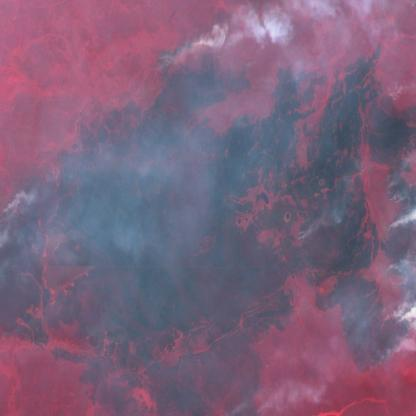fire: (334, 89, 416, 372), (152, 31, 254, 86), (0, 171, 42, 233)
